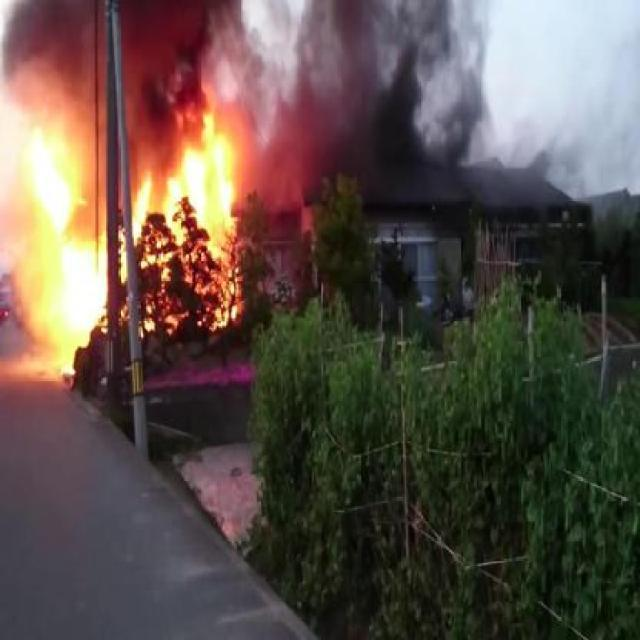Fire: (14, 91, 254, 377)
Smoke: (251, 9, 508, 233), (10, 7, 251, 92)
